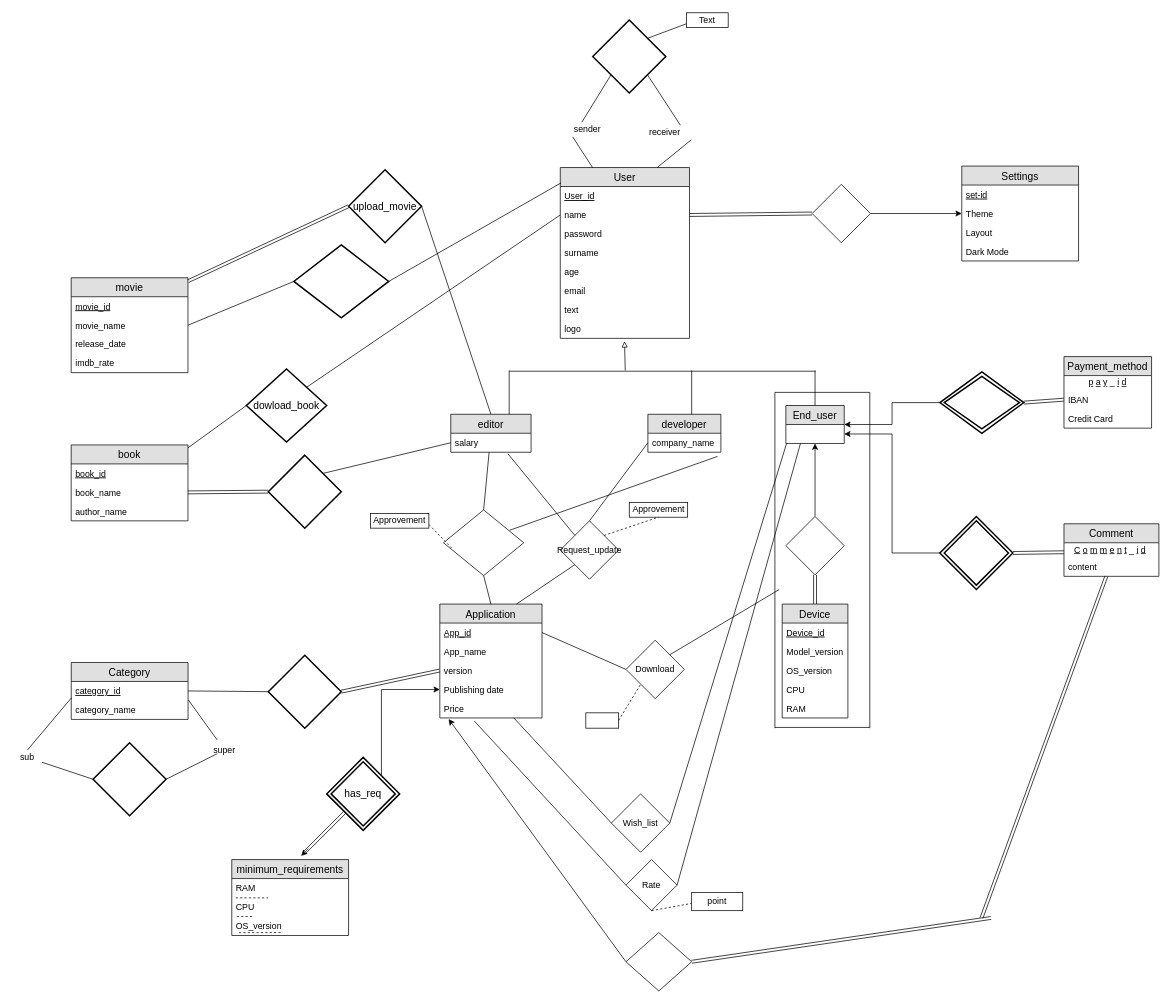
This 1172x1004 diagram has some shape labels left out. Each missing label, with the centre of its shape:
add: (x=981, y=402)
count: (x=602, y=720)
download_movie: (x=341, y=281)
Has: (x=304, y=691)
has_comment: (x=658, y=961)
has_device: (x=814, y=545)
make_com: (x=976, y=552)
message: (x=629, y=56)
Request_publish: (x=483, y=542)
set: (x=841, y=213)
subcategory: (x=129, y=779)
upload_book: (x=304, y=491)
